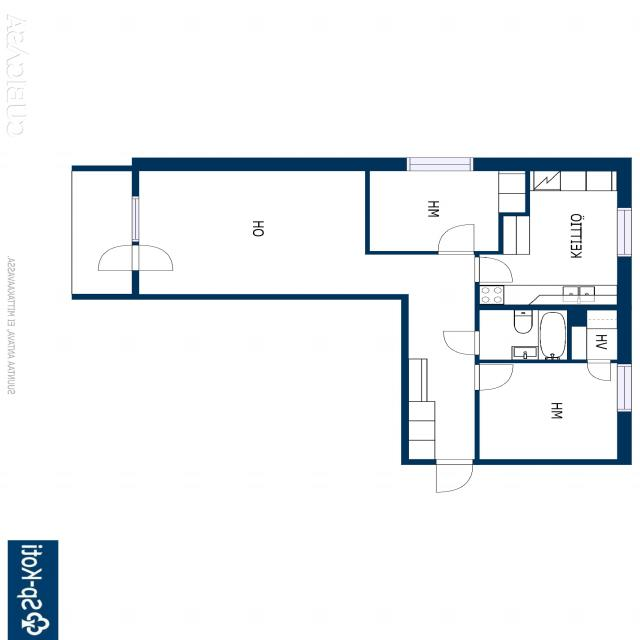door: (437, 460, 472, 492), (131, 245, 174, 271), (97, 245, 139, 271), (439, 226, 473, 255), (474, 257, 512, 282), (474, 365, 512, 390), (442, 331, 480, 355), (543, 330, 572, 348)
